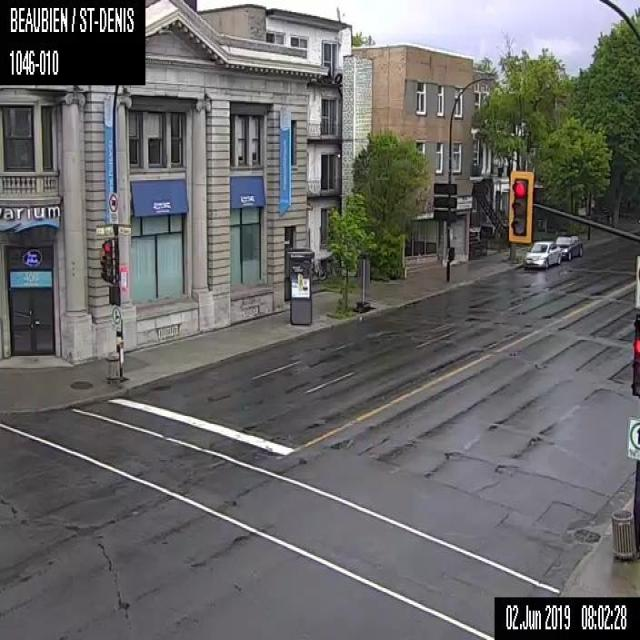vehicle: (522, 240, 561, 267), (554, 234, 582, 260)
